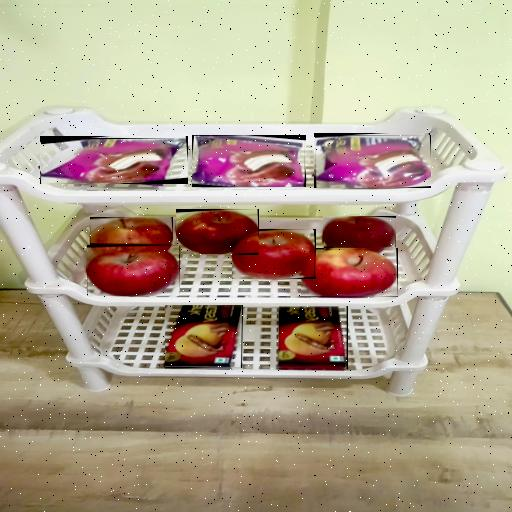Apple: (301, 249, 398, 297), (87, 246, 179, 296), (232, 230, 314, 279), (176, 210, 258, 254), (90, 217, 173, 251), (324, 216, 395, 252)
Choco Fills: (165, 305, 242, 368), (279, 306, 347, 369)
Choco Pie: (41, 140, 186, 183), (315, 136, 430, 188), (192, 135, 304, 187)
